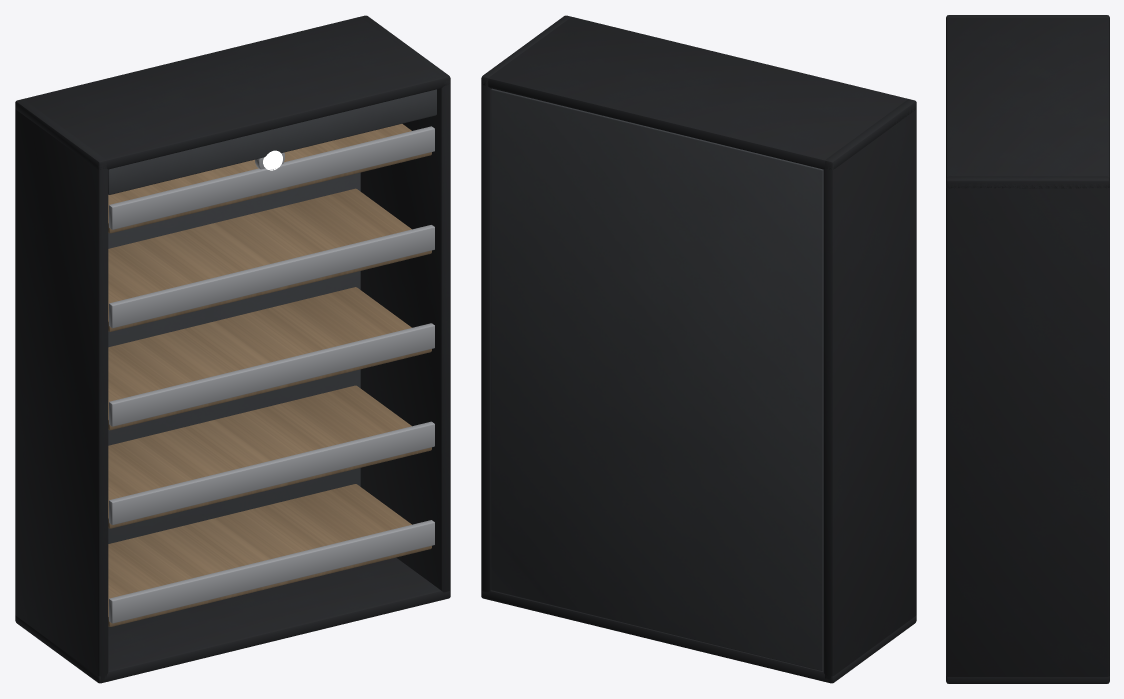
The model's file is pf_display_snack_shelving_t2.glb.
The picture shows the model from 3 angles, left to right: view 1: azimuth 30°, elevation 25°; view 2: azimuth 150°, elevation 25°; view 3: azimuth 270°, elevation 25°; orthographic projection. The views are drawn at different scales.
Parts seen in each view (by area): view 1: Case_Left, Case_Top, Case_Right, Case_Base, Shelf_03, Shelf_02, Shelf_01, Shelf_04, Case_Back, Header_Back, Shelf_Lip_03, Shelf_Lip_01 (+4 smaller); view 2: Case_Back, Case_Left, Case_Top, Case_Right, Case_Base; view 3: Case_Right, Case_Top, Case_Base, Case_Left.
Part boxes in pixels (<box>): Case_Left: <box>15,99,108,681</box>; Case_Top: <box>15,15,449,169</box>; Case_Right: <box>360,15,450,598</box>; Case_Base: <box>15,557,450,683</box>; Shelf_03: <box>108,287,431,430</box>; Shelf_02: <box>108,385,431,528</box>; Shelf_01: <box>108,484,431,626</box>; Shelf_04: <box>108,188,431,331</box>; Case_Back: <box>108,172,360,543</box>; Header_Back: <box>108,89,436,194</box>; Shelf_Lip_03: <box>109,323,434,426</box>; Shelf_Lip_01: <box>109,520,434,623</box>; Case_Back: <box>491,88,823,670</box>; Case_Left: <box>823,99,916,681</box>; Case_Top: <box>481,16,916,169</box>; Case_Right: <box>481,15,571,598</box>; Case_Base: <box>481,590,916,683</box>; Case_Right: <box>946,176,1109,676</box>; Case_Top: <box>946,15,1109,188</box>; Case_Base: <box>946,676,1109,683</box>; Case_Left: <box>946,15,1109,19</box>.
Bounding box in the file's own units: 1.2 × 1.7 × 0.5.
6 materials, 3 textured.
